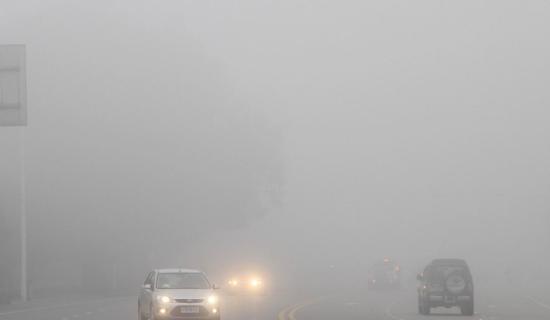car: (135, 267, 221, 320), (415, 256, 476, 316), (224, 263, 273, 297), (366, 255, 400, 293)
